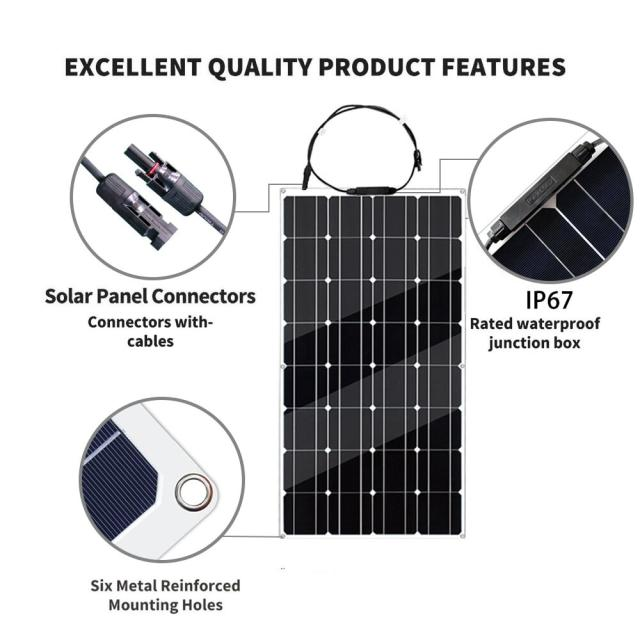clean-solar-panel: (281, 190, 465, 535)
